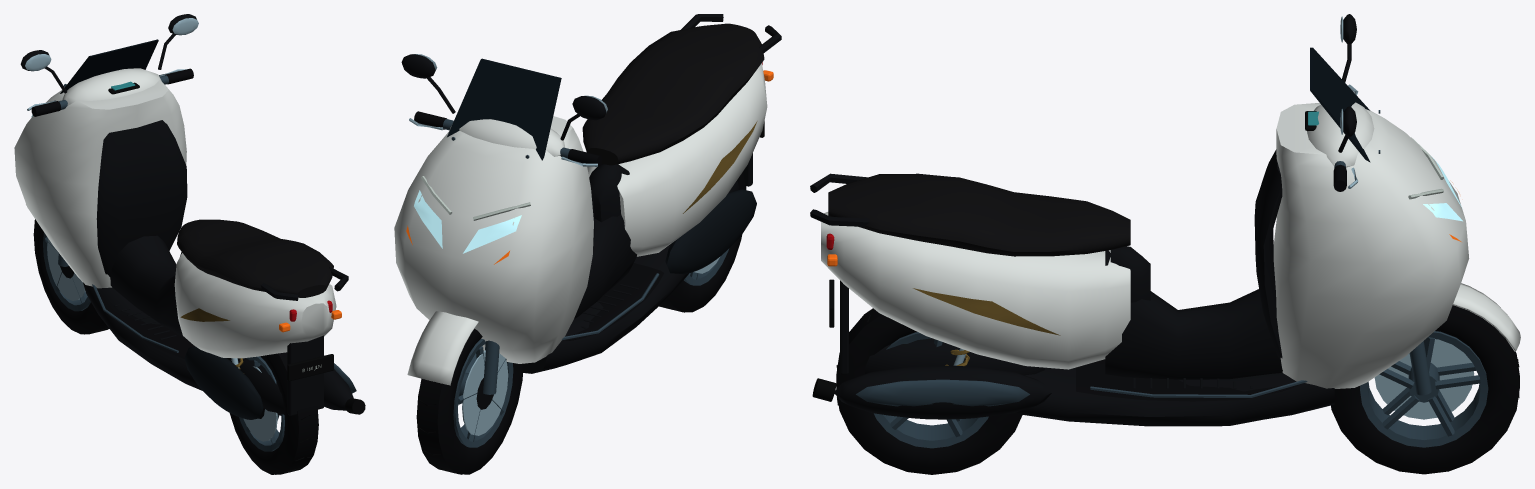
File: maxi_scooter_pearl.glb
The picture shows the model from 3 angles, left to right: view 1: azimuth 30°, elevation 25°; view 2: azimuth 150°, elevation 25°; view 3: azimuth 270°, elevation 25°; orthographic projection. The views are drawn at different scales.
Visible parts, largest first — view 1: Body_Mesh, Wheel_Rear_Mesh, Steering_Pivot_Mesh, Wheel_Front_Mesh; view 2: Body_Mesh, Wheel_Front_Mesh, Steering_Pivot_Mesh, Wheel_Rear_Mesh, Headlights_Mesh; view 3: Body_Mesh, Wheel_Front_Mesh, Wheel_Rear_Mesh, Steering_Pivot_Mesh, Headlights_Mesh.
Boxes of the visible parts, left/top/right/bottom form: Body_Mesh: left=14, top=39, right=365, bottom=419; Wheel_Rear_Mesh: left=229, top=352, right=318, bottom=474; Steering_Pivot_Mesh: left=20, top=14, right=198, bottom=266; Wheel_Front_Mesh: left=33, top=219, right=109, bottom=334; Body_Mesh: left=394, top=14, right=781, bottom=373; Wheel_Front_Mesh: left=416, top=328, right=523, bottom=474; Steering_Pivot_Mesh: left=401, top=54, right=607, bottom=394; Wheel_Rear_Mesh: left=659, top=172, right=746, bottom=312; Headlights_Mesh: left=414, top=176, right=530, bottom=253; Body_Mesh: left=810, top=47, right=1469, bottom=426; Wheel_Front_Mesh: left=1331, top=305, right=1519, bottom=474; Wheel_Rear_Mesh: left=836, top=308, right=1022, bottom=474; Steering_Pivot_Mesh: left=1305, top=14, right=1520, bottom=395; Headlights_Mesh: left=1408, top=137, right=1462, bottom=221.
Bounding box in the file's own units: 0.72 × 1.23 × 1.95.
2 materials, 1 textured.
